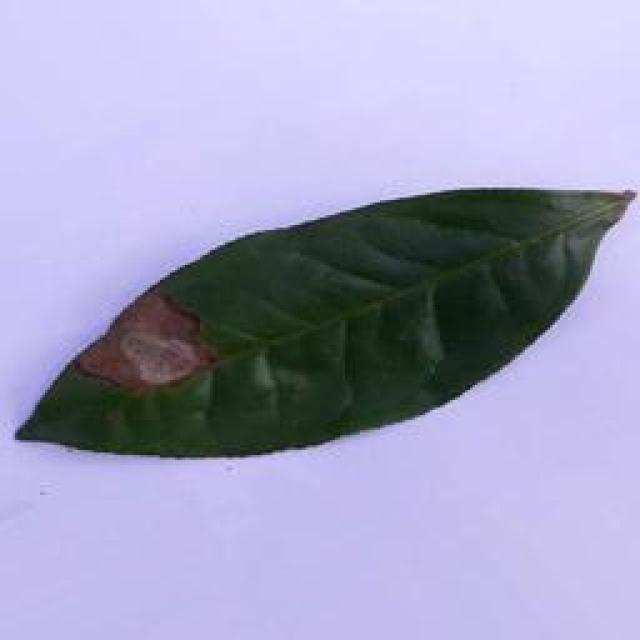Gray Blight: (12, 178, 634, 465)
